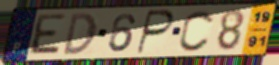6: (108, 12, 137, 53)
8: (216, 8, 246, 52)
C: (177, 9, 216, 53)
D: (62, 12, 98, 57)
E: (26, 12, 68, 57)
P: (134, 9, 176, 56)
